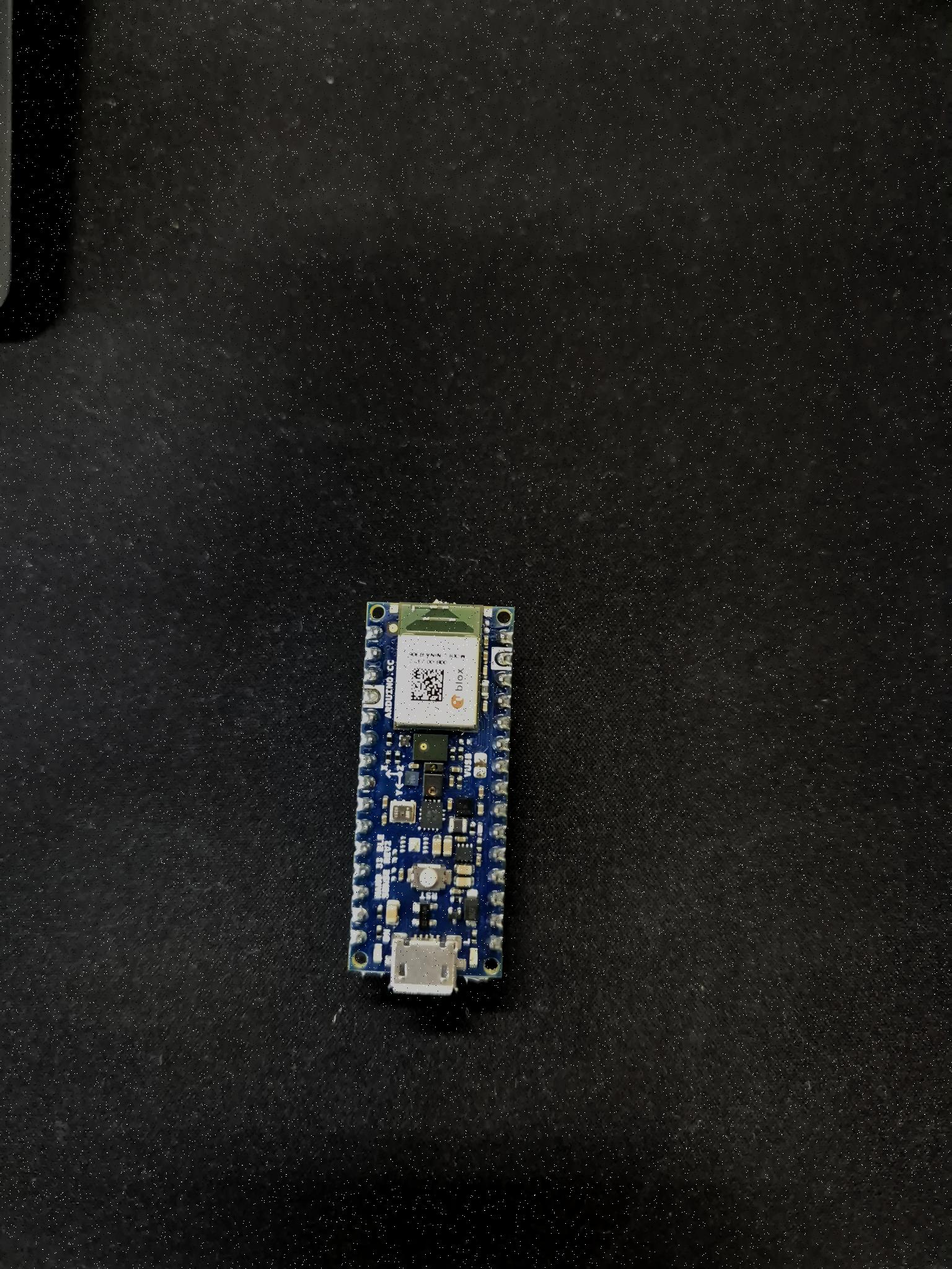arduino-nano-ble-sense: (350, 603, 512, 994)
